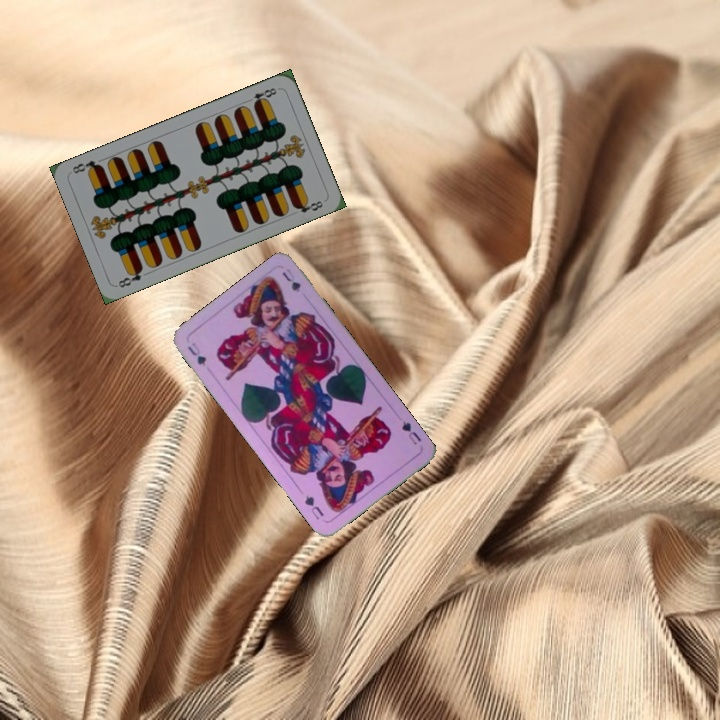E8: (242, 84, 279, 108), (114, 263, 145, 290)
GU: (398, 417, 424, 448), (183, 338, 209, 369)
